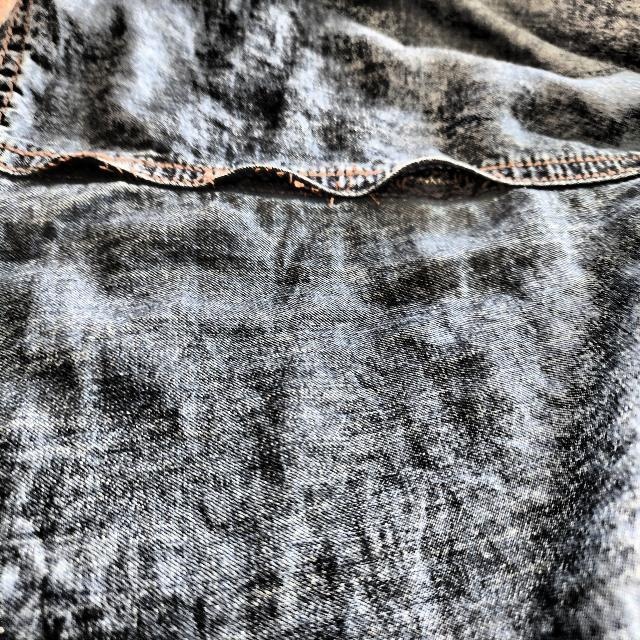gray stitch: (365, 153, 524, 208), (194, 152, 340, 211), (29, 144, 151, 198)
